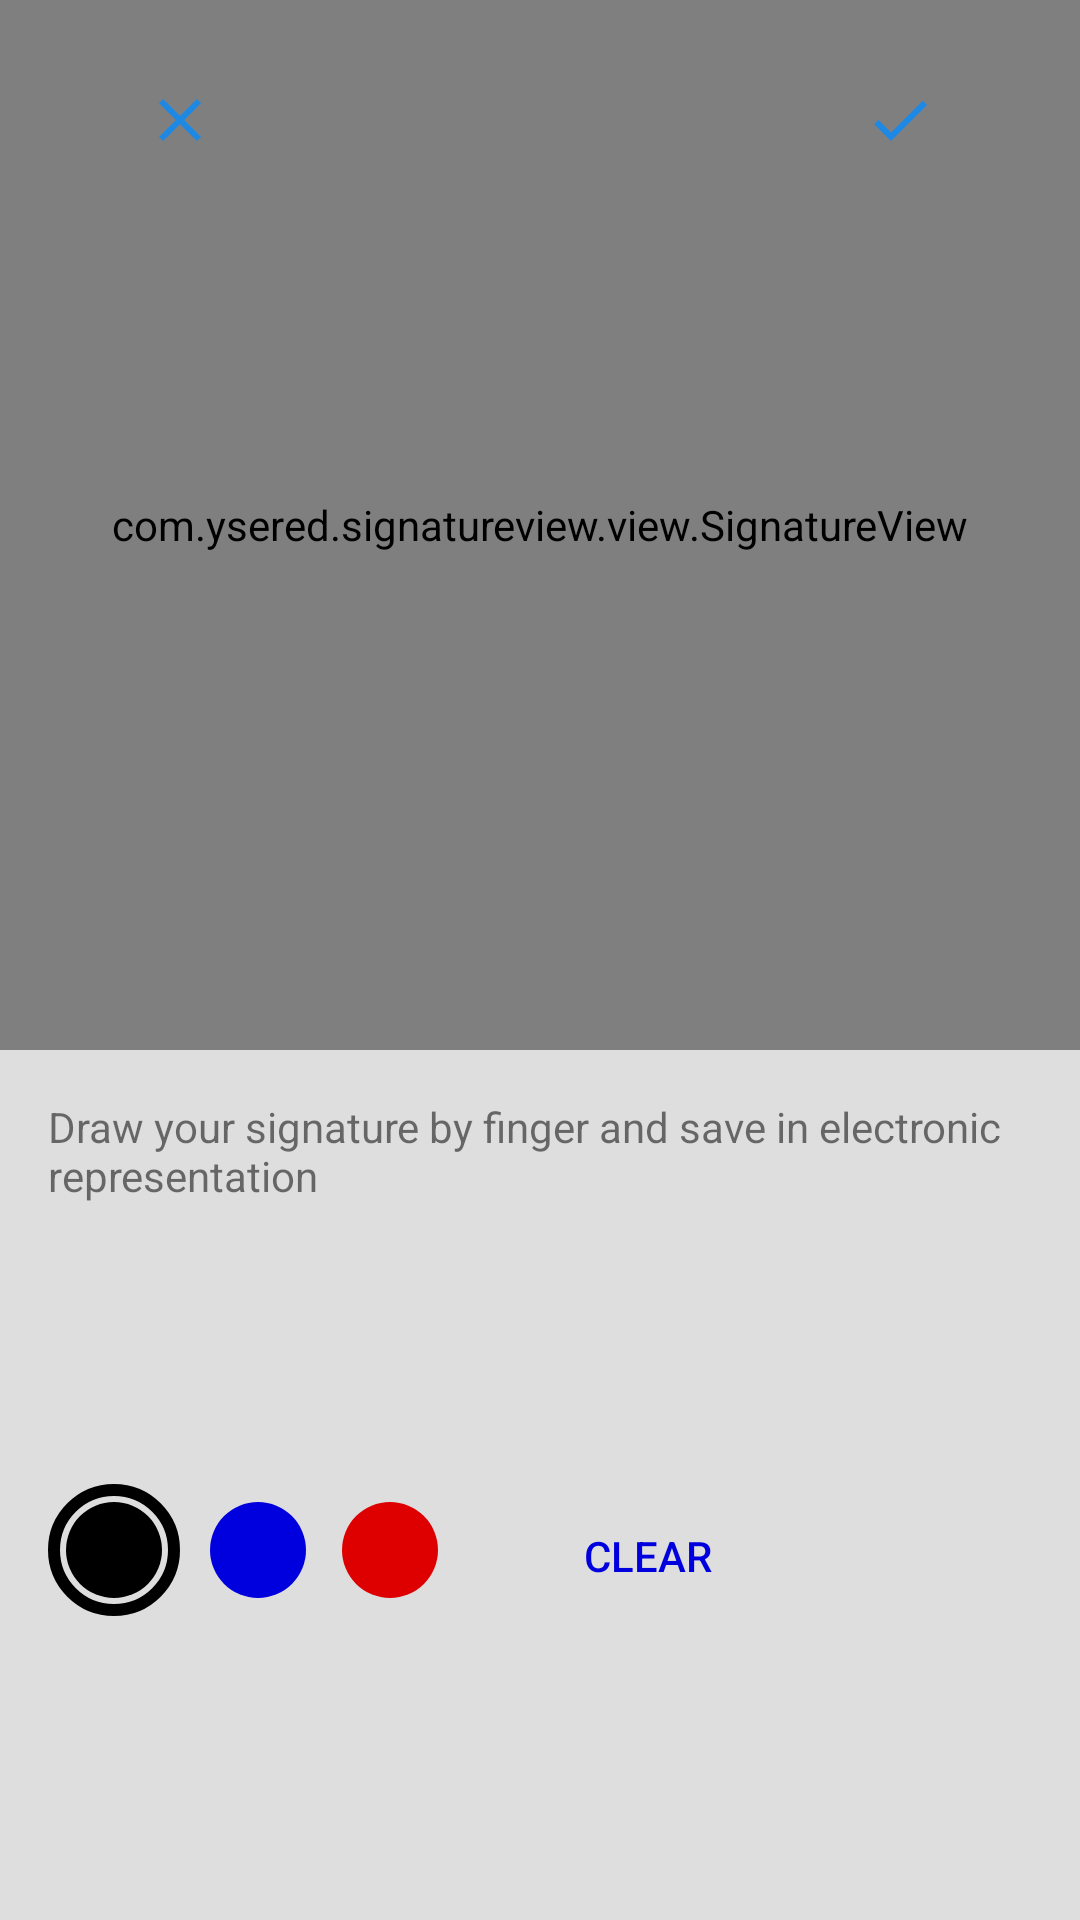

Named icons in this screenshot (1080x1920) and their bounding boxes, (x1,y1,x2,y2):
Close: (159,99,201,141)
Done: (874,101,927,141)
